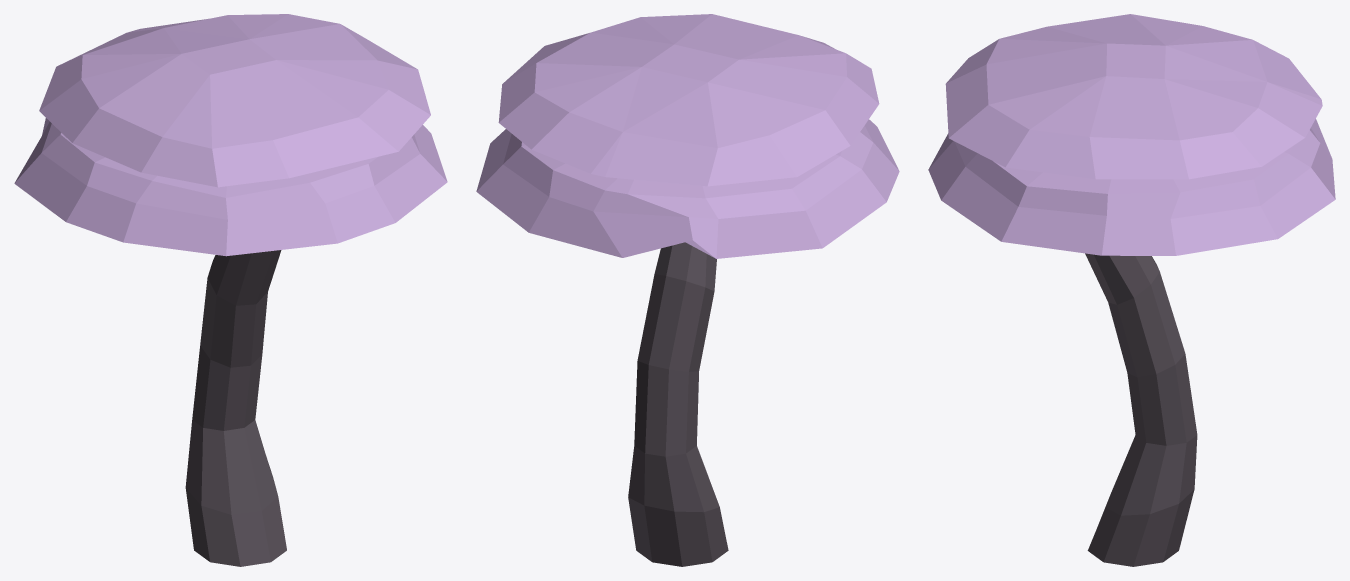
The model's file is Pomp01.fbx.
3 views of the same model, side by side, from view 1: azimuth 30°, elevation 25°; view 2: azimuth 150°, elevation 25°; view 3: azimuth 270°, elevation 25° (orthographic). The views are drawn at different scales.
Parts seen in each view (by area): view 1: Pomp01; view 2: Pomp01; view 3: Pomp01.
Boxes of the visible parts, left/top/right/bottom form: Pomp01: left=14, top=14, right=447, bottom=566; Pomp01: left=476, top=14, right=899, bottom=566; Pomp01: left=928, top=14, right=1335, bottom=566.
Size of the model in its own units: 10.98 by 14.17 by 10.83.
